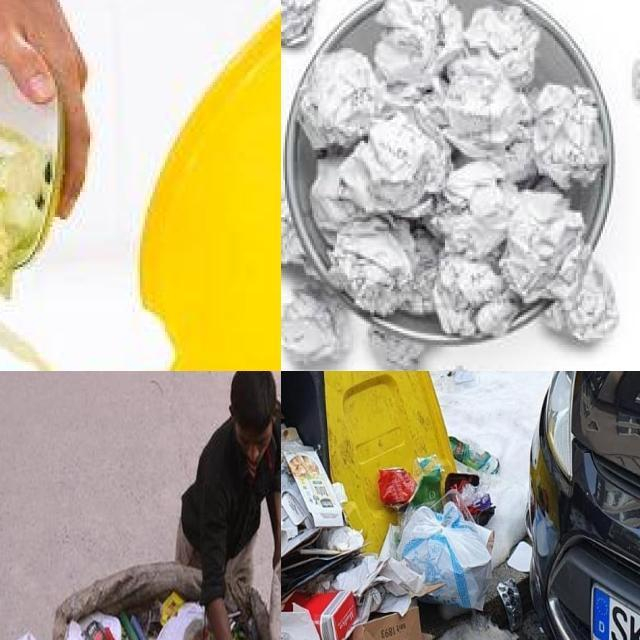Garbage: (281, 410, 494, 640), (450, 438, 498, 470)
Paper: (296, 0, 606, 336)
Plastic_Bag: (398, 501, 491, 609), (379, 509, 414, 562), (157, 603, 204, 640), (66, 612, 122, 640), (160, 591, 184, 625)
Plastic_bottle: (450, 437, 500, 473)
Plastic_wraper: (410, 454, 443, 507), (378, 468, 417, 506), (84, 621, 105, 640)
top_view_waste: (295, 0, 612, 346)
